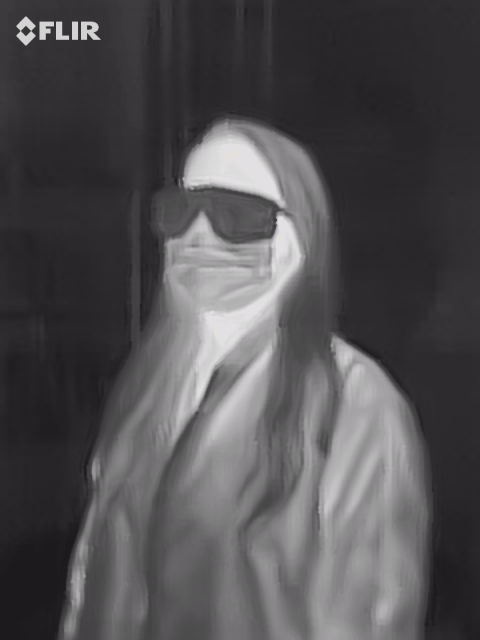head: (152, 117, 333, 318)
